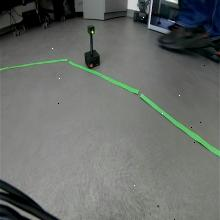green: (87, 24, 96, 34)
